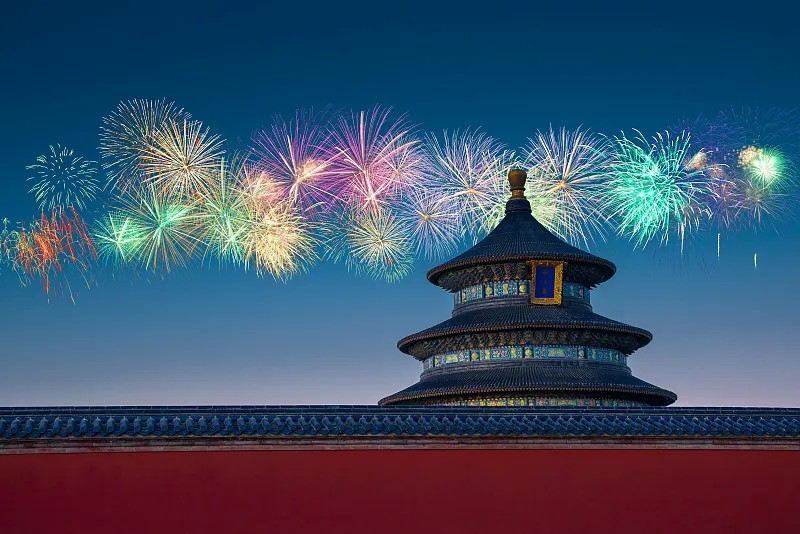Heaven: (377, 169, 679, 408)
